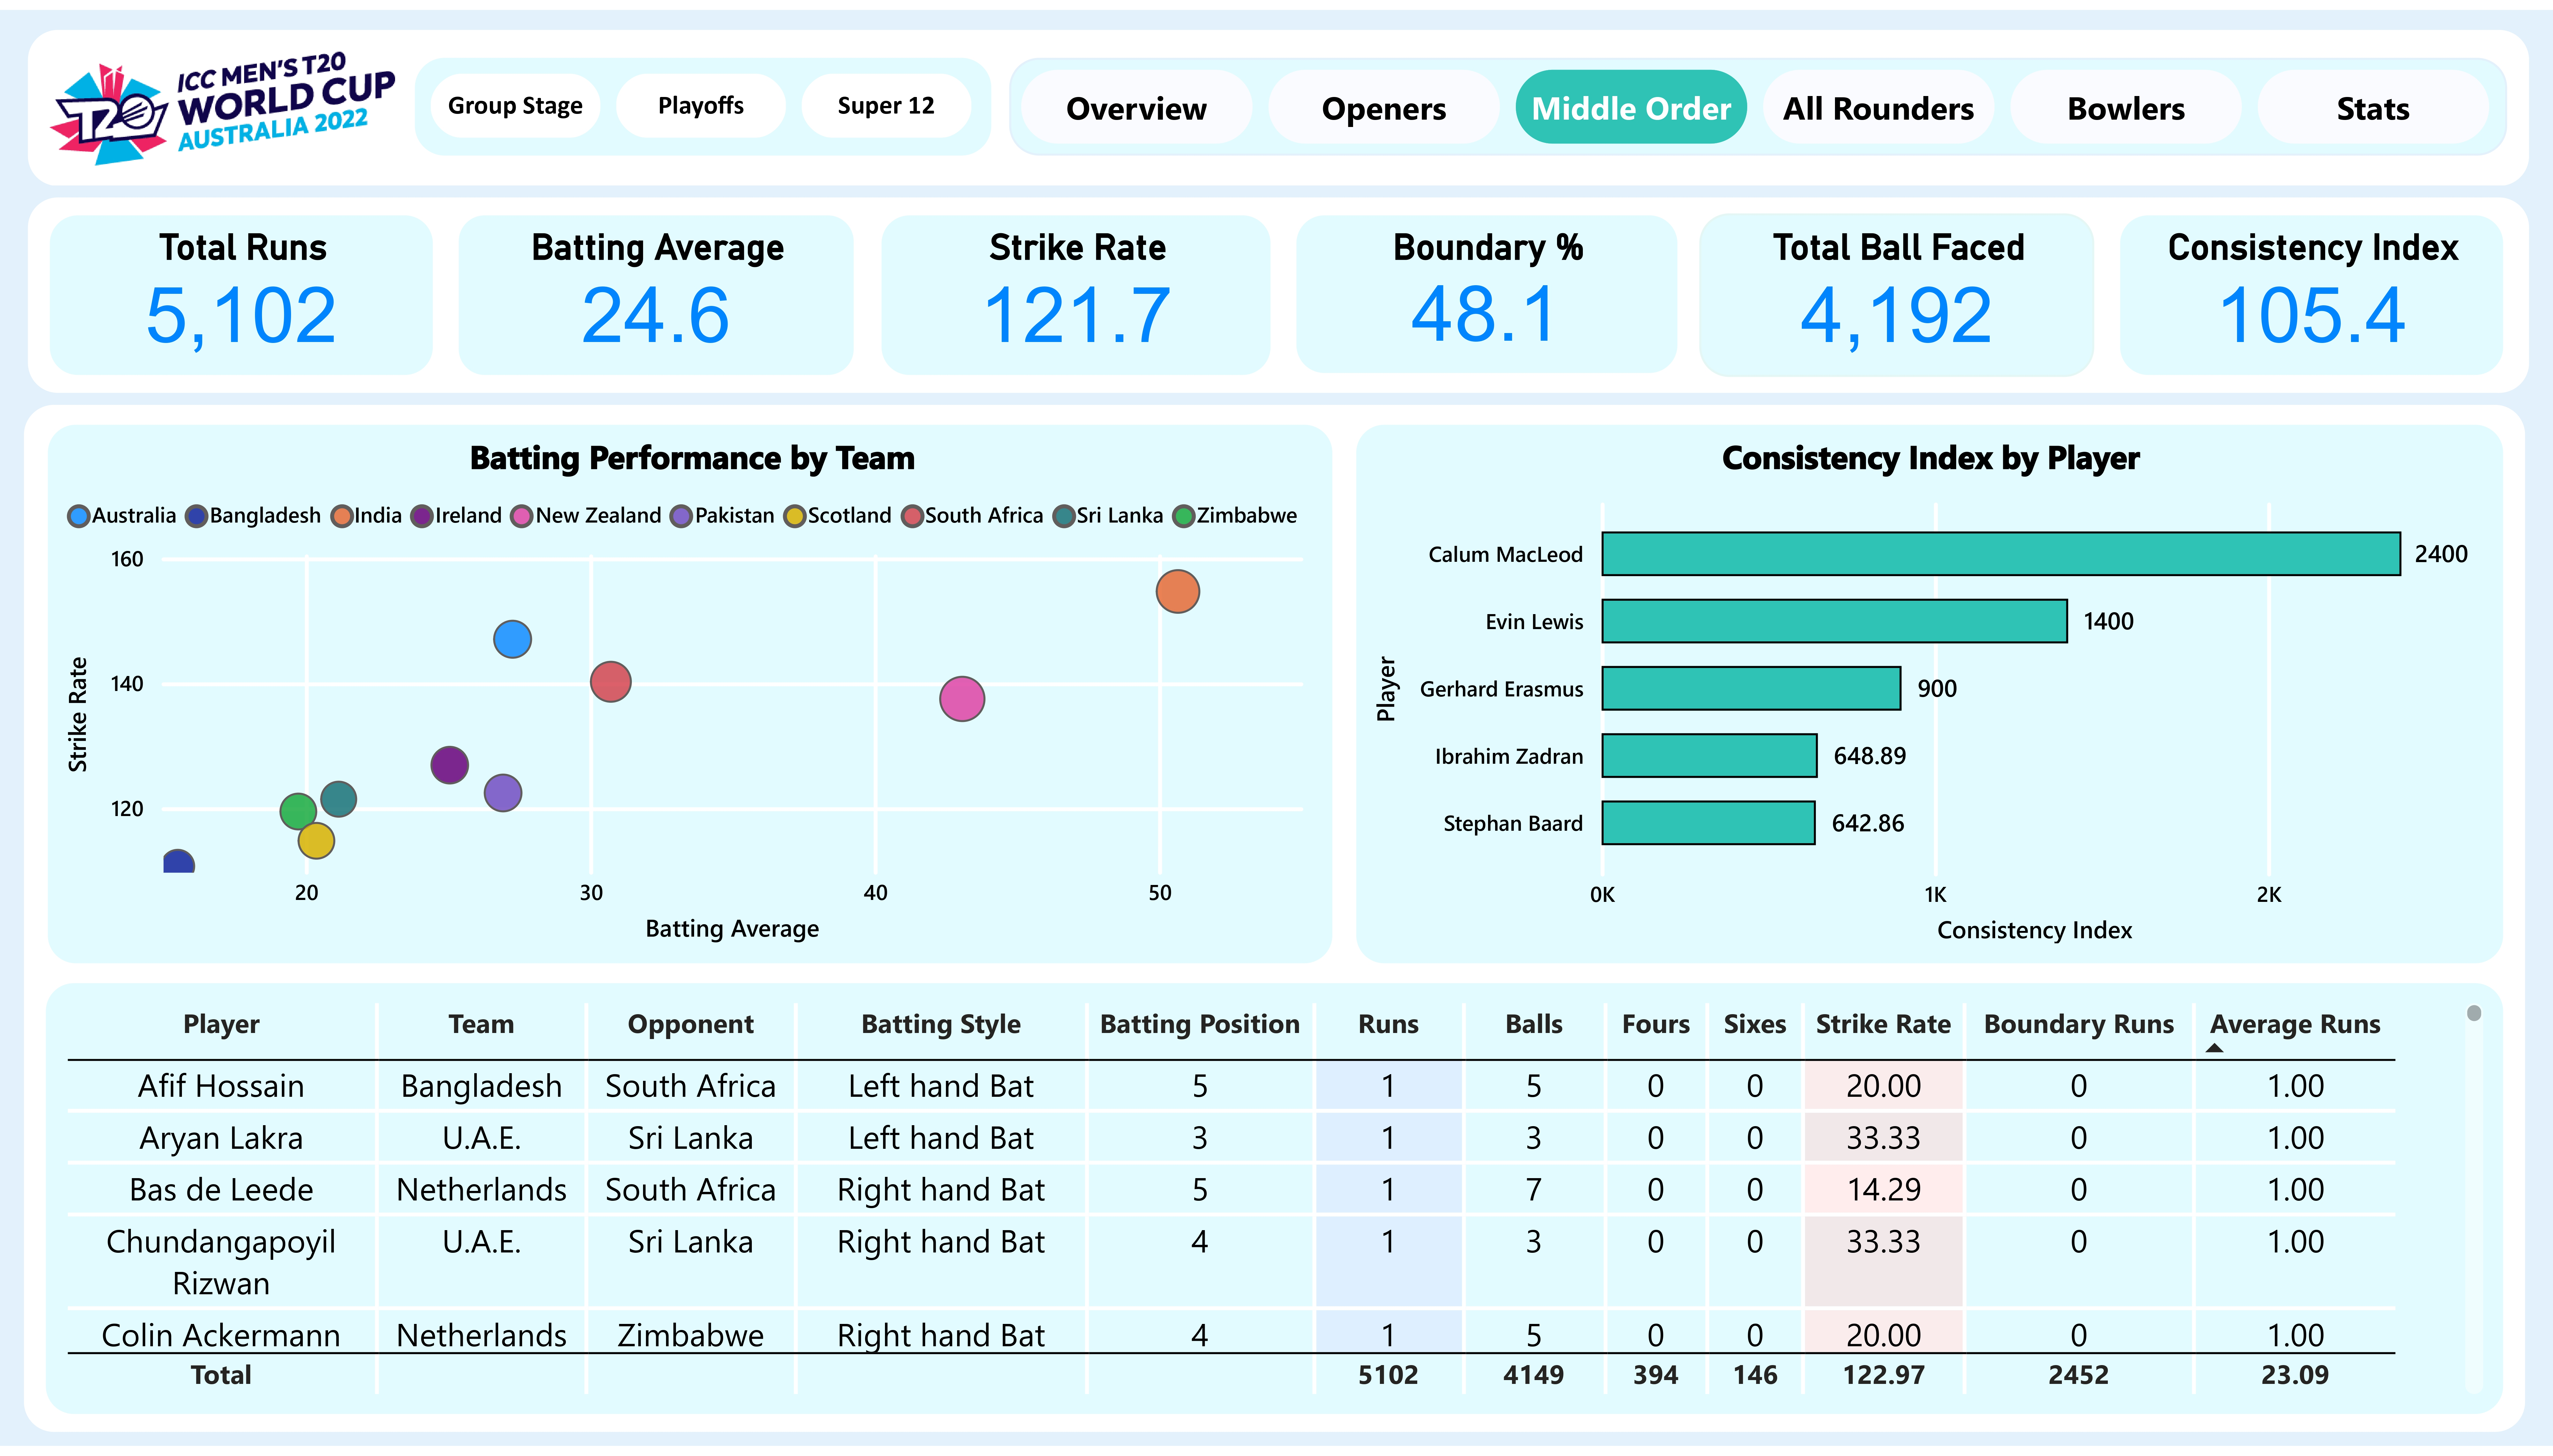

Layout of this report page (visuals, bound fields, positions):
{"tool":"powerbi","page":{"name":"Middle Order","canvas":[1280,720],"ordinal":2},"visuals":[{"type":"shape","box":[12.5,198,1254,515],"z":0},{"type":"barChart","fields":{"Category":["players.name"],"Y":["Measure.Consistency Index"]},"box":[679,207,576.6,272],"z":6000},{"type":"shape","box":[13.8,93.8,1254,98],"z":7000},{"type":"advanceCardE03760C5AB684758B56AA29F9E6C257B","title":"Batting Average","fields":{"mainMeasure":["Measure.Batting Average"]},"box":[229,102,200,81.6],"z":8000},{"type":"advanceCardE03760C5AB684758B56AA29F9E6C257B","title":"Total Runs","fields":{"mainMeasure":["Measure.Total Runs"]},"box":[24,102,193.9,81.6],"z":9000},{"type":"advanceCardE03760C5AB684758B56AA29F9E6C257B","title":"Consistency Index","fields":{"mainMeasure":["Measure.Consistency Index"]},"box":[1062.4,102,194,81.6],"z":10000},{"type":"advanceCardE03760C5AB684758B56AA29F9E6C257B","title":"Total Ball Faced","fields":{"mainMeasure":["Measure.total ball faced"]},"box":[852,102,198.4,81.6],"z":11000},{"type":"advanceCardE03760C5AB684758B56AA29F9E6C257B","title":"Boundary %","fields":{"mainMeasure":["Measure.Boundary %"]},"box":[649,102,192.8,80.5],"z":12000},{"type":"advanceCardE03760C5AB684758B56AA29F9E6C257B","title":"Strike Rate","fields":{"mainMeasure":["Measure.Strike Rate"]},"box":[441,102,197.3,81.6],"z":13000},{"type":"tableEx","fields":{"Values":["players.name","bating_summary.team","bating_summary.Opponent","players.battingStyle","bating_summary.battingPos","Measure.Total Runs","Measure.total ball faced","Sum(bating_summary.fours)","Sum(bating_summary.sixes)","Measure.Strike Rate","Sum(bating_summary.Boundary runs)","Measure.Average Runs"]},"box":[22,487,1234,218],"z":14000},{"type":"scatterChart","title":"Batting Performance by Team","fields":{"X":["Measure.Batting Average"],"Y":["Measure.Strike Rate"],"Size":["Measure.Avg ball faced"],"Category":["players.team"],"Series":["players.team"]},"box":[22.5,207.4,646.4,271.8],"z":15000},{"type":"shape","box":[13.6,10.2,1254,78.2],"z":16000},{"type":"image","box":[25.2,12.6,173.4,73.6],"z":17000},{"type":"pageNavigator","box":[506.1,24,750.9,49],"z":18000},{"type":"advancedSlicerVisual","fields":{"Values":["match_summary.Stage"]},"box":[208.1,24.5,289.4,49],"z":19000}]}

Visuals, with their boxes in screenshot pixels (x1, y1, x2, y2), scaled from the page's 1280x720 canvas onto the 2553x1456 screenshot:
shape: x1=25 y1=400 x2=2526 y2=1442
barChart - players.name x Measure.Consistency Index: x1=1354 y1=419 x2=2504 y2=969
shape: x1=27 y1=190 x2=2529 y2=388
"Batting Average" advanceCardE03760C5AB684758B56AA29F9E6C257B: x1=457 y1=206 x2=856 y2=371
"Total Runs" advanceCardE03760C5AB684758B56AA29F9E6C257B: x1=48 y1=206 x2=435 y2=371
"Consistency Index" advanceCardE03760C5AB684758B56AA29F9E6C257B: x1=2119 y1=206 x2=2506 y2=371
"Total Ball Faced" advanceCardE03760C5AB684758B56AA29F9E6C257B: x1=1699 y1=206 x2=2095 y2=371
"Boundary %" advanceCardE03760C5AB684758B56AA29F9E6C257B: x1=1294 y1=206 x2=1679 y2=369
"Strike Rate" advanceCardE03760C5AB684758B56AA29F9E6C257B: x1=880 y1=206 x2=1273 y2=371
tableEx - players.name x bating_summary.team: x1=44 y1=985 x2=2505 y2=1426
"Batting Performance by Team" scatterChart: x1=45 y1=420 x2=1334 y2=969
shape: x1=27 y1=21 x2=2528 y2=179
image: x1=50 y1=26 x2=396 y2=174
pageNavigator: x1=1009 y1=48 x2=2507 y2=148
advancedSlicerVisual - match_summary.Stage: x1=415 y1=49 x2=992 y2=149
